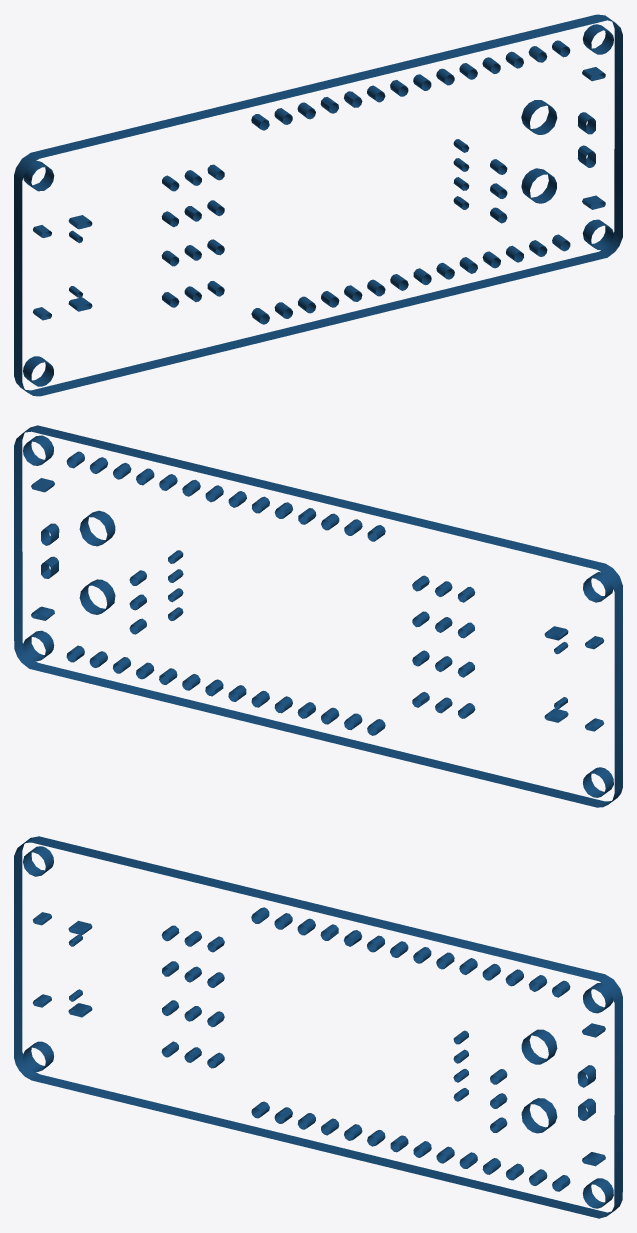
File: link0_blue_pcb.obj
3 renders of one model, top to bottom at view 1: azimuth 30°, elevation 25°; view 2: azimuth 150°, elevation 25°; view 3: azimuth 330°, elevation 25°, orthographic.
Bounding box in the file's own units: 0.066 × 0.025 × 0.0016.
